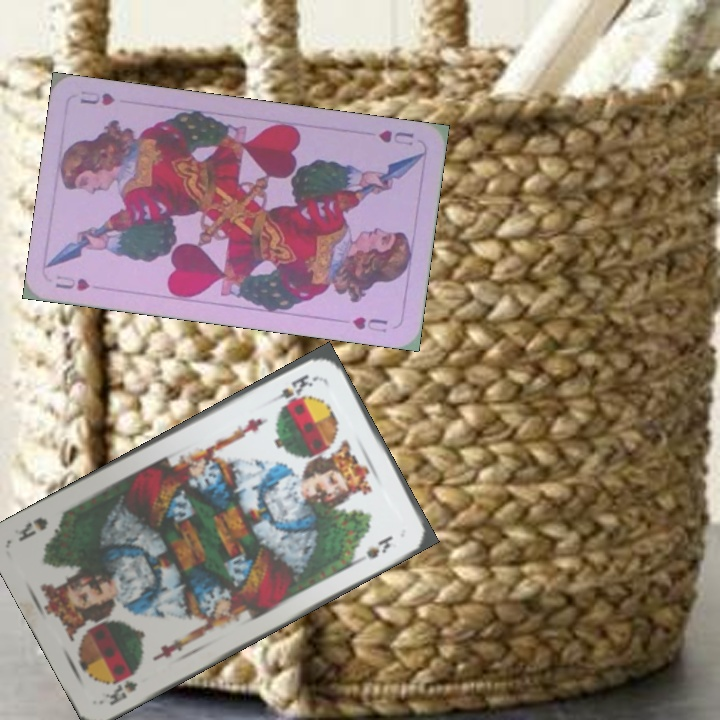HU: (375, 126, 417, 149), (51, 271, 93, 294)
SK: (264, 370, 320, 406), (101, 668, 141, 709)
